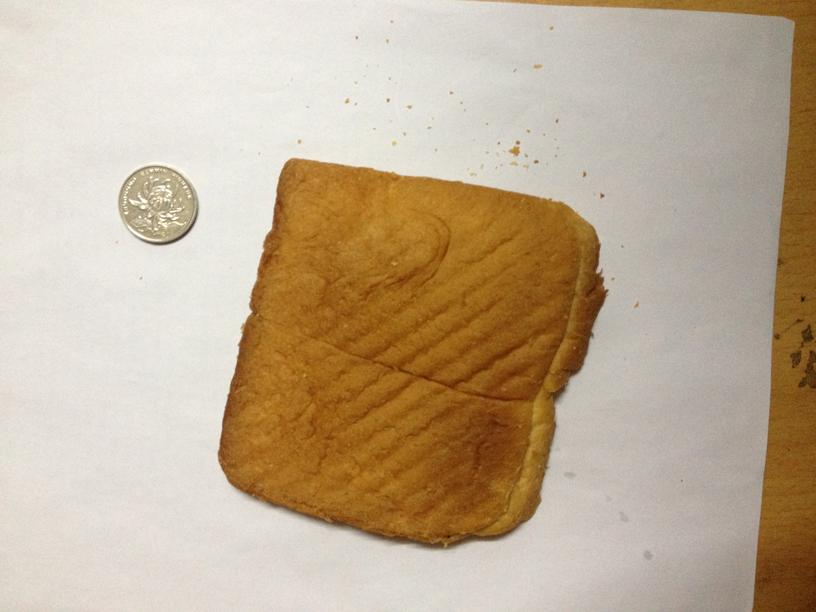bread: (213, 152, 606, 546)
coin: (115, 165, 198, 244)
